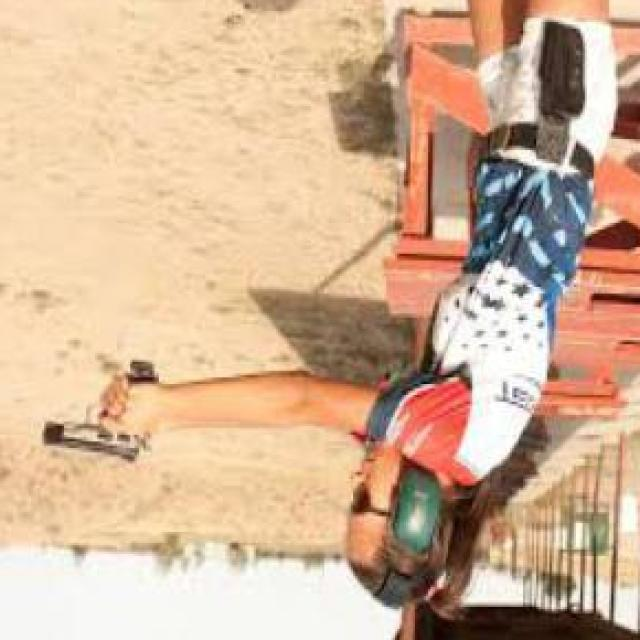pistol: (38, 364, 164, 479)
